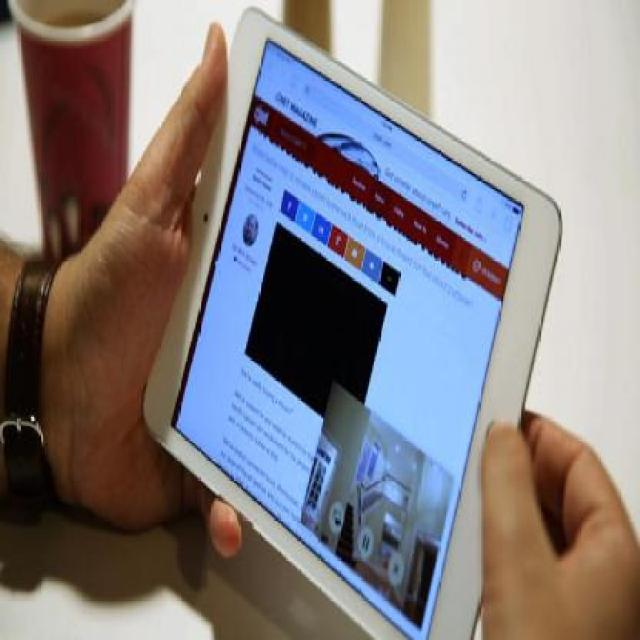tablet: (135, 1, 513, 640)
